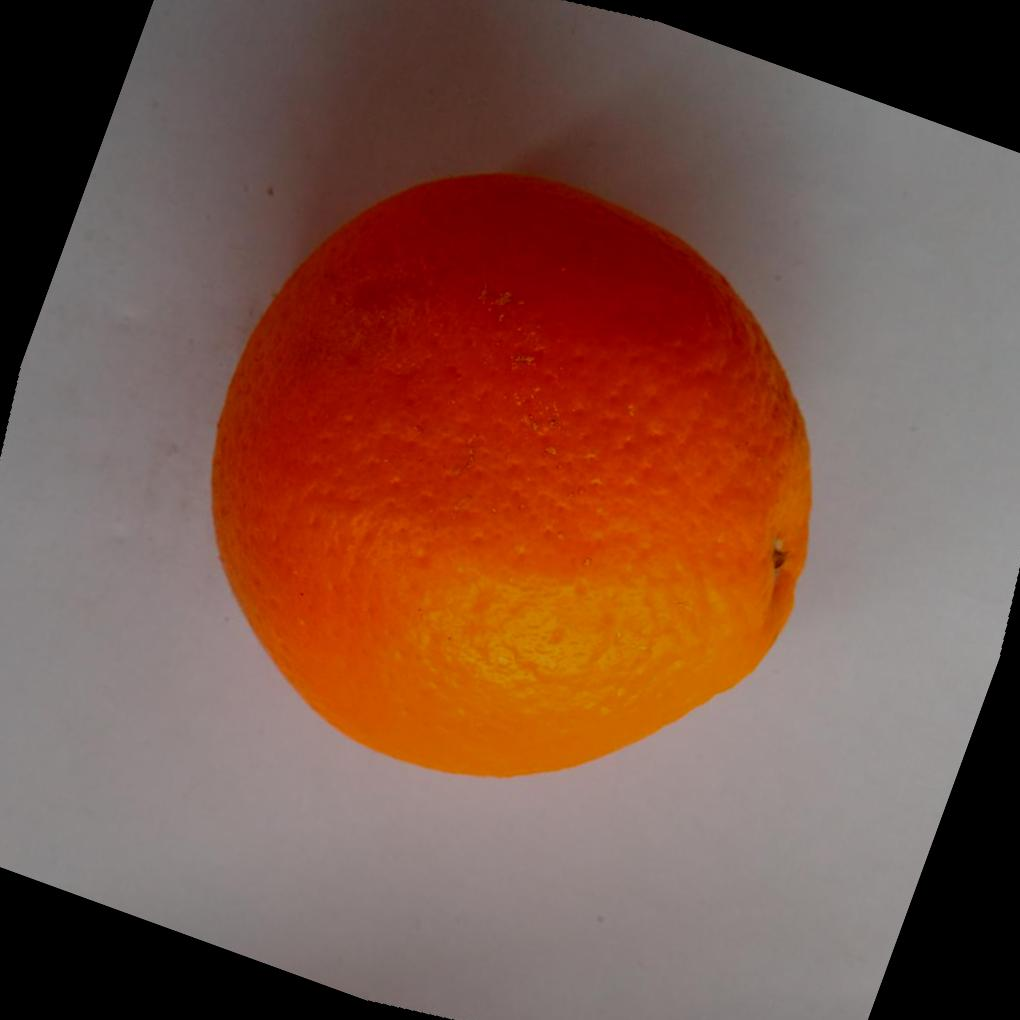FreshGuava: (207, 174, 812, 781)
